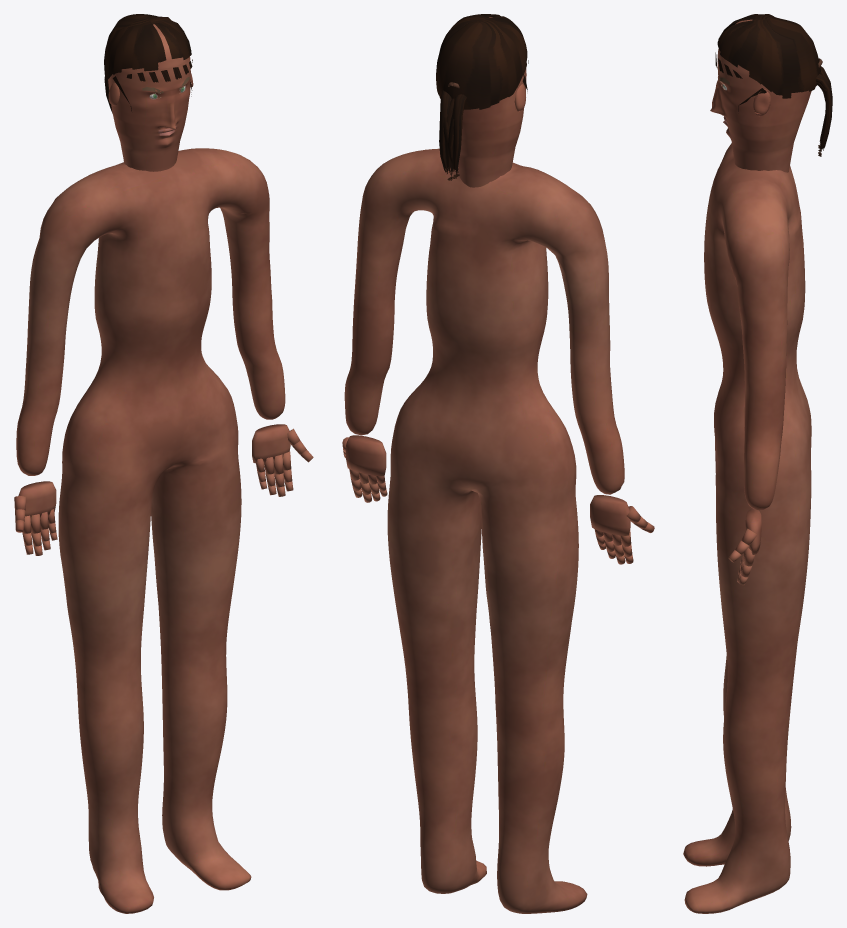
The model's file is heroi_julia_pbr.glb.
3 views of the same model, side by side, from view 1: azimuth 30°, elevation 25°; view 2: azimuth 150°, elevation 25°; view 3: azimuth 270°, elevation 25° (orthographic). The views are drawn at different scales.
Visible parts, largest first — view 1: JuliaBase, calota_cabelo; view 2: JuliaBase, calota_cabelo, rabo_mecha_1; view 3: JuliaBase, calota_cabelo, rabo_mecha_5.
Boxes of the visible parts, box(x1,y1,x2,y2) form: JuliaBase: box(14, 24, 313, 913); calota_cabelo: box(104, 14, 191, 80); JuliaBase: box(342, 17, 654, 913); calota_cabelo: box(436, 14, 527, 109); rabo_mecha_1: box(452, 94, 466, 177); JuliaBase: box(683, 19, 811, 913); calota_cabelo: box(717, 14, 820, 98); rabo_mecha_5: box(816, 74, 832, 154).
Bounding box in the file's own units: 0.6269 × 1.73 × 0.2706.
Materials: 12 (3 with a texture image).
